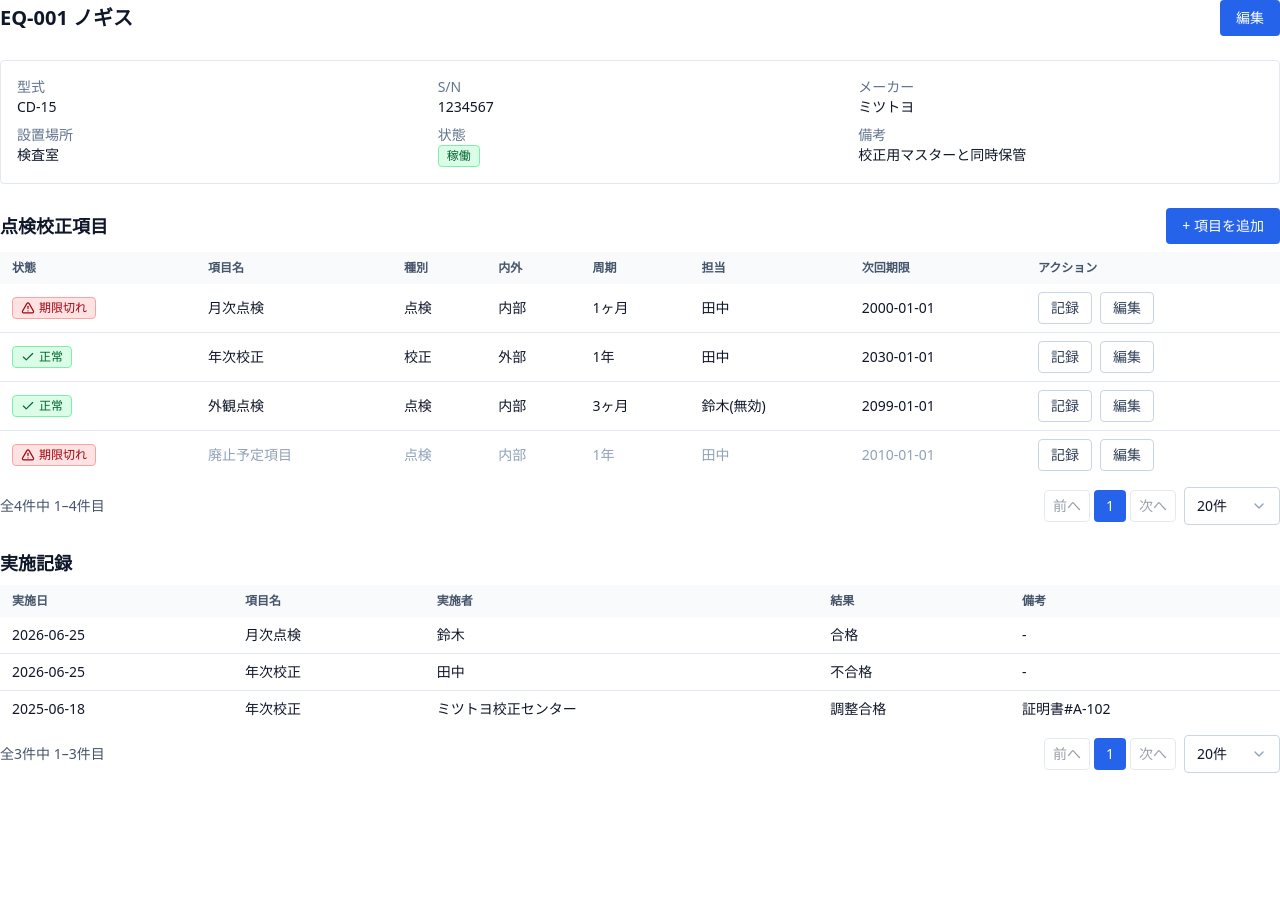
EquipmentDetail: ServiceItemModal起動 › 「+ 項目を追加」で新規モードのモーダルが開き、対象機器がプリセットされる
This screenshot has width=1280, height=900.
Click the button "+ 項目を追加": click(1223, 226) x1=1166 y1=208 x2=1279 y2=244
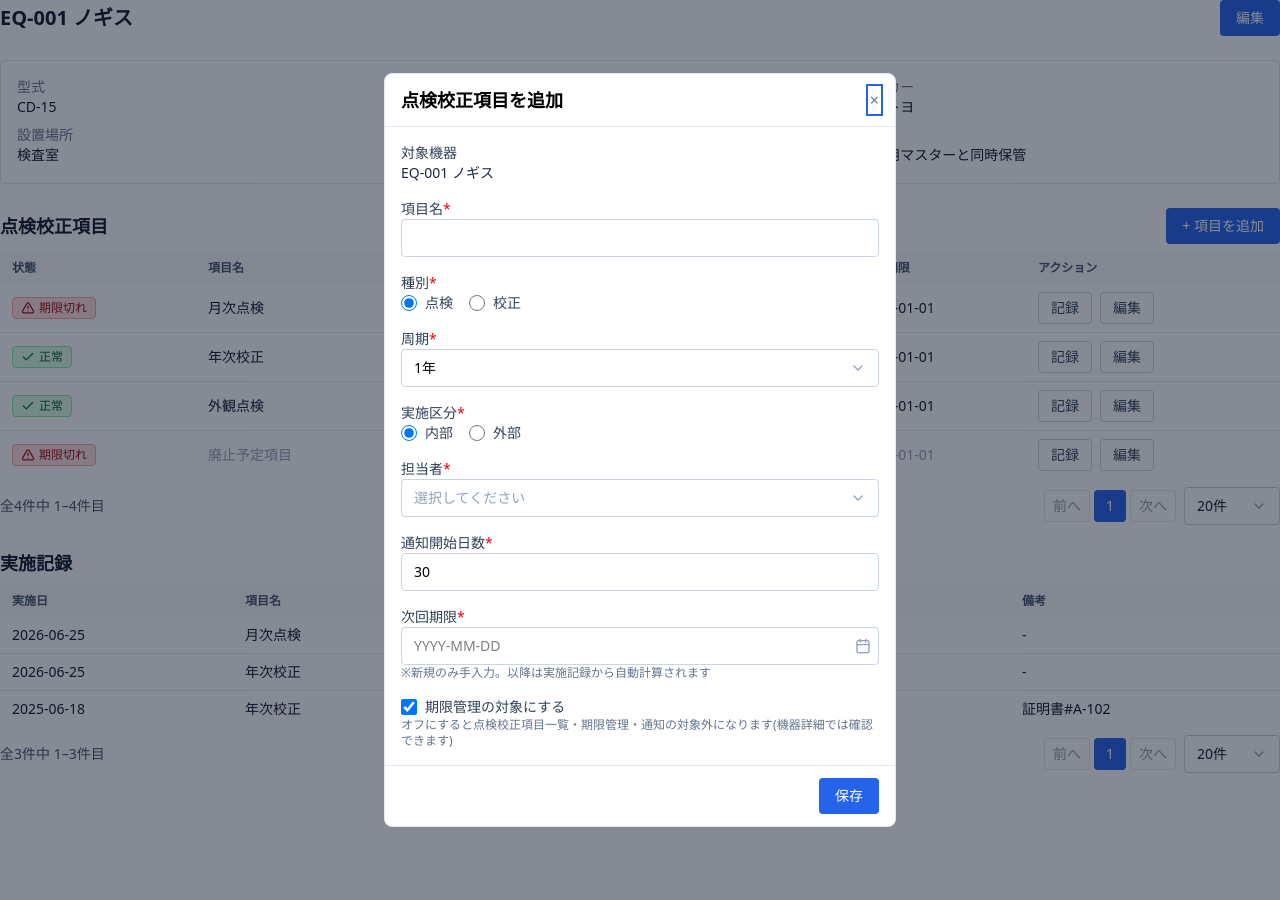
Expected: the field labelled "項目名" is empty, x1=401 y1=219 x2=879 y2=257
Now the text "EQ-001 ノギス" is shown, box x1=401 y1=163 x2=494 y2=182
